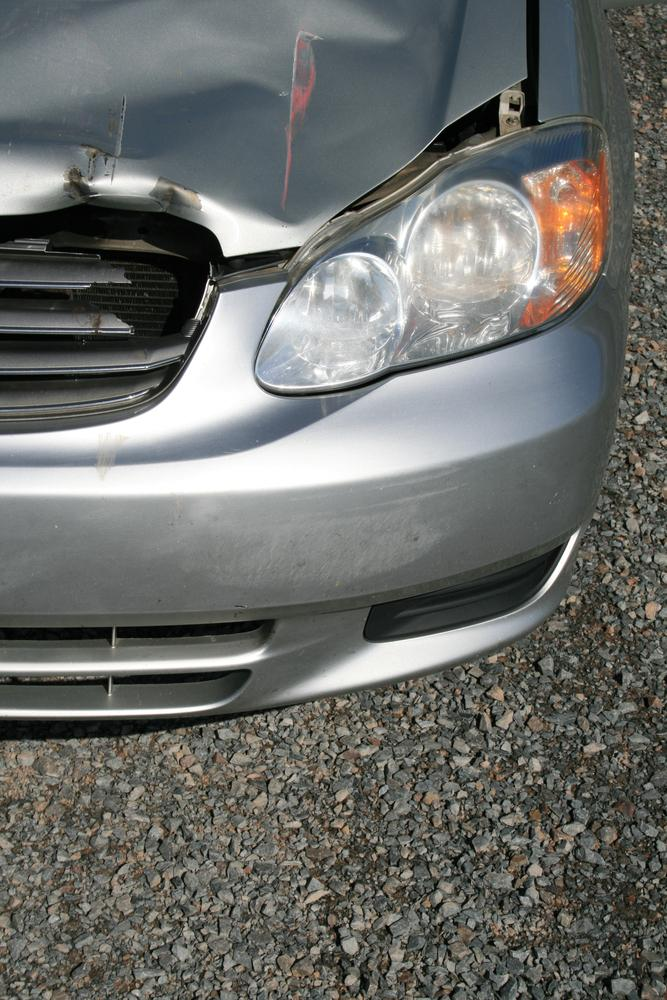dent: (0, 0, 435, 240)
scratch: (147, 467, 465, 591)
